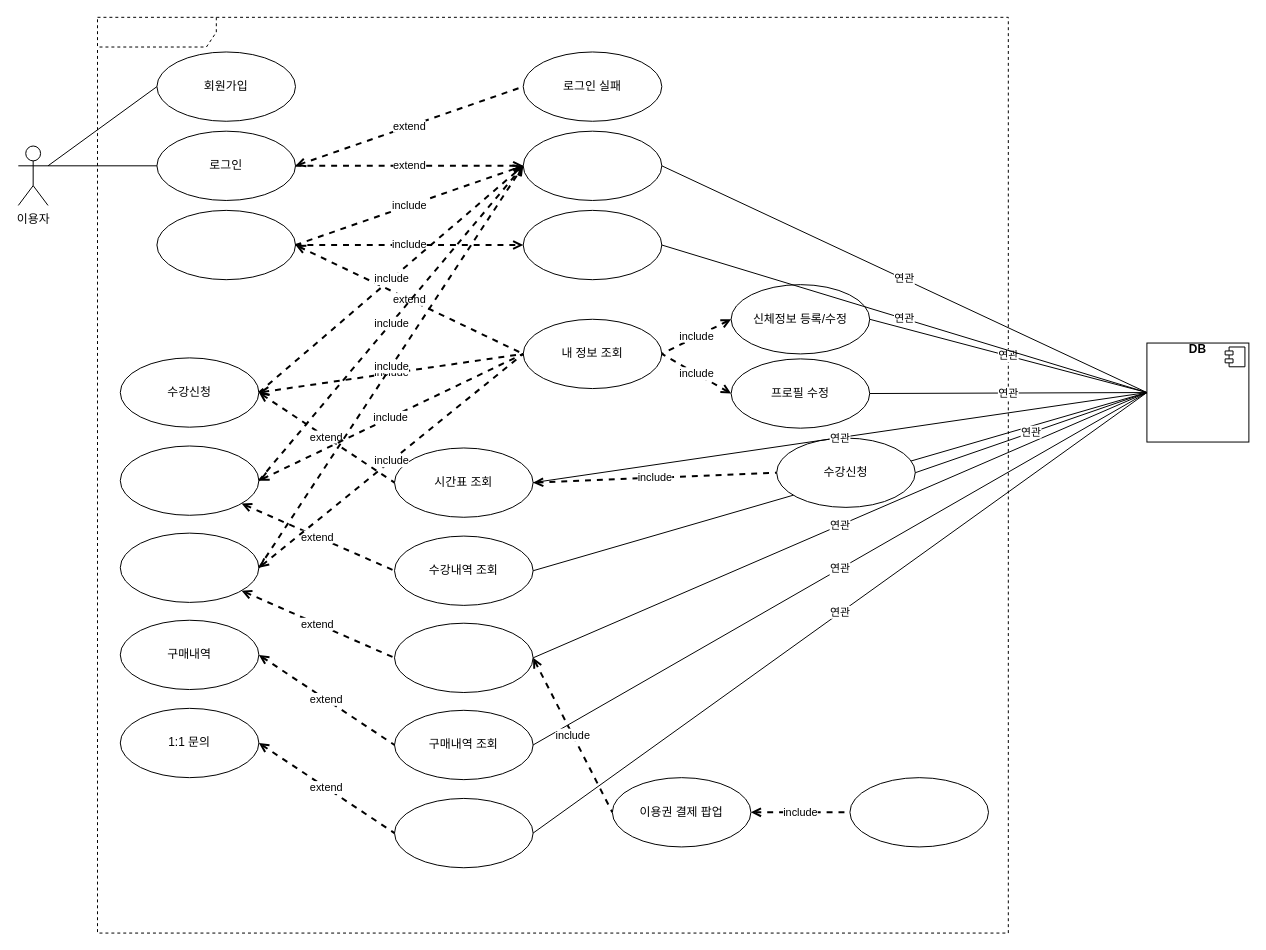
This 1266x950 diagram has some shape labels left out. Here are the shapes that lost their labels. From the top down, the centre of each, then its label:
At point 592,165: "로그인 성공".
At point 226,244: "마이페이지".
At point 592,244: "회원탈퇴".
At point 189,480: "내 강좌".
At point 189,567: "이용권 구매".
At point 463,657: "이용권 조회".
At point 463,832: "문의내역 조회".
At point 919,812: "이용권 결제".
